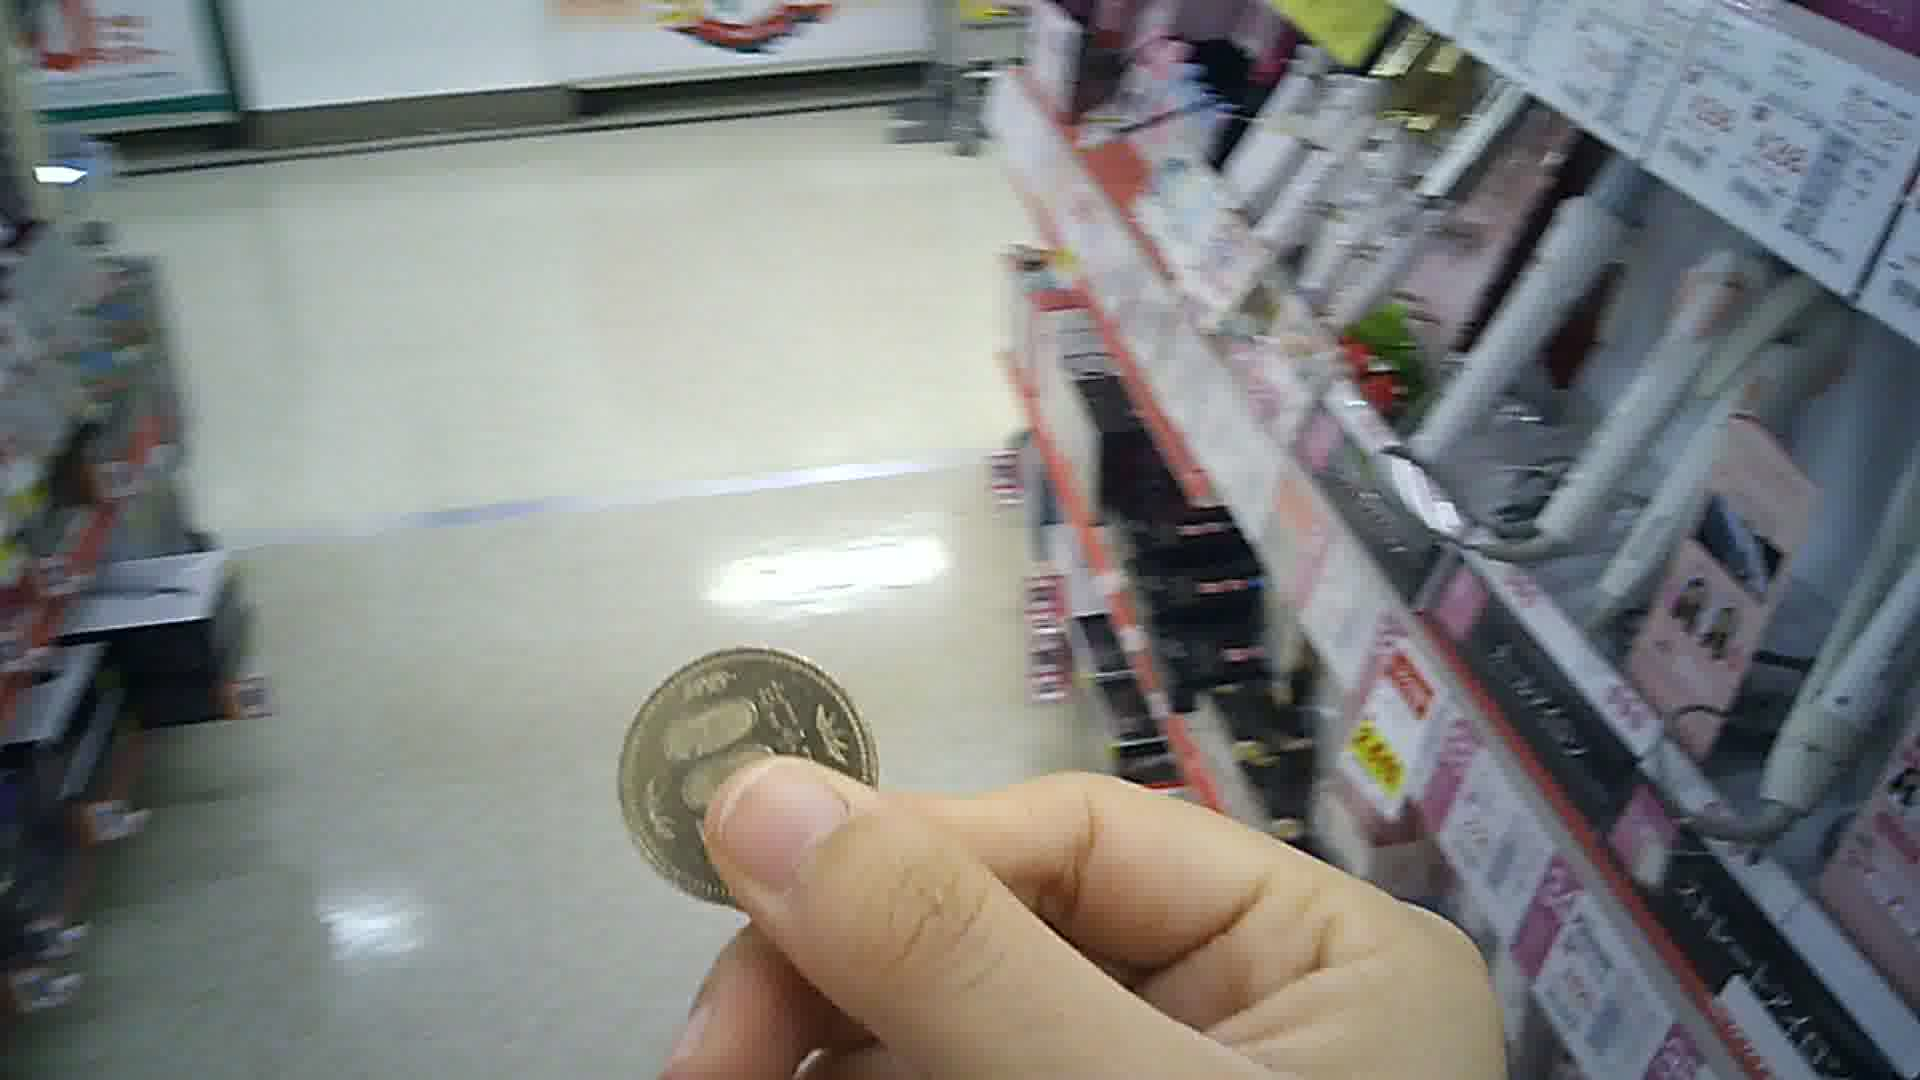500 Yen: (608, 646, 891, 914)
